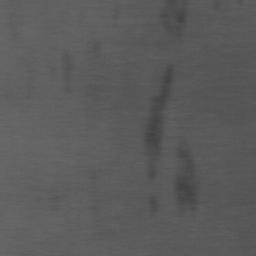Iron scale compression: (146, 63, 173, 180), (177, 140, 197, 207), (161, 0, 188, 33), (149, 192, 158, 216)
